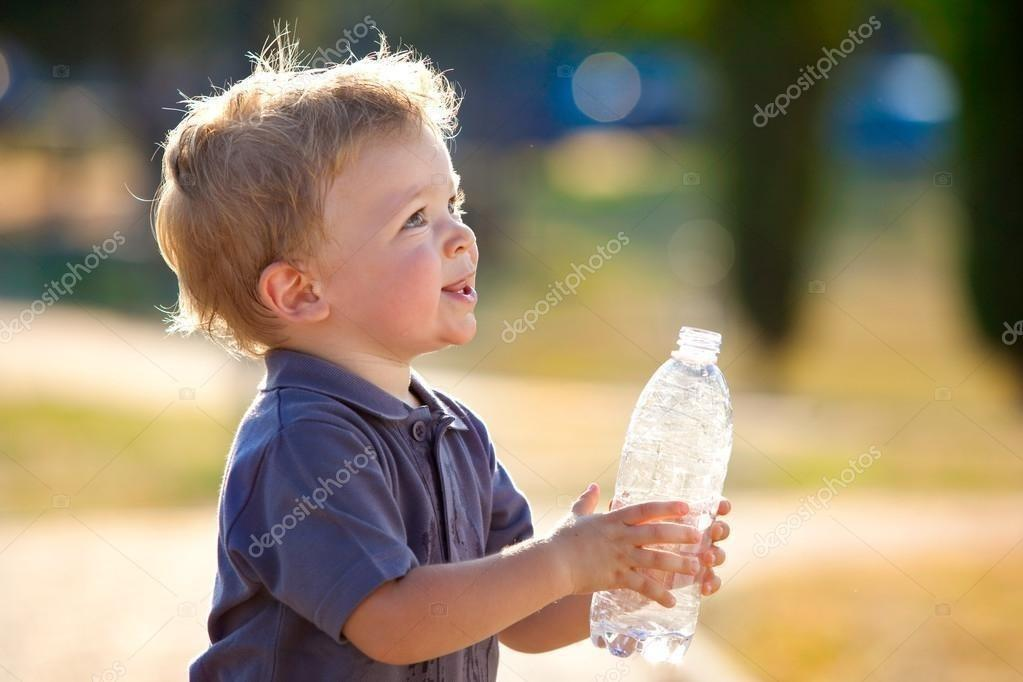bottle-plastic: (582, 319, 747, 681)
